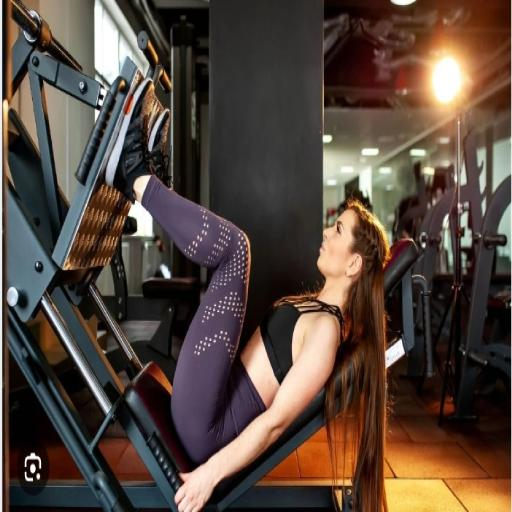Leg Press: (4, 61, 384, 512)
